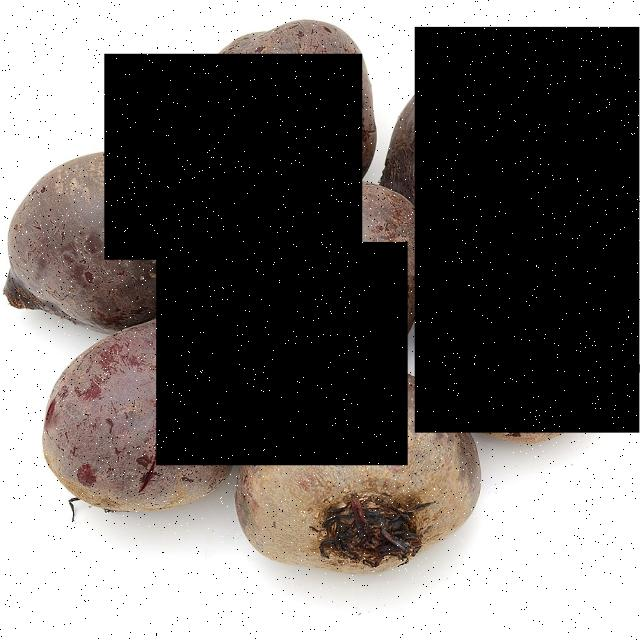Beetroot: (414, 27, 640, 433), (156, 242, 408, 466), (105, 54, 363, 260)
